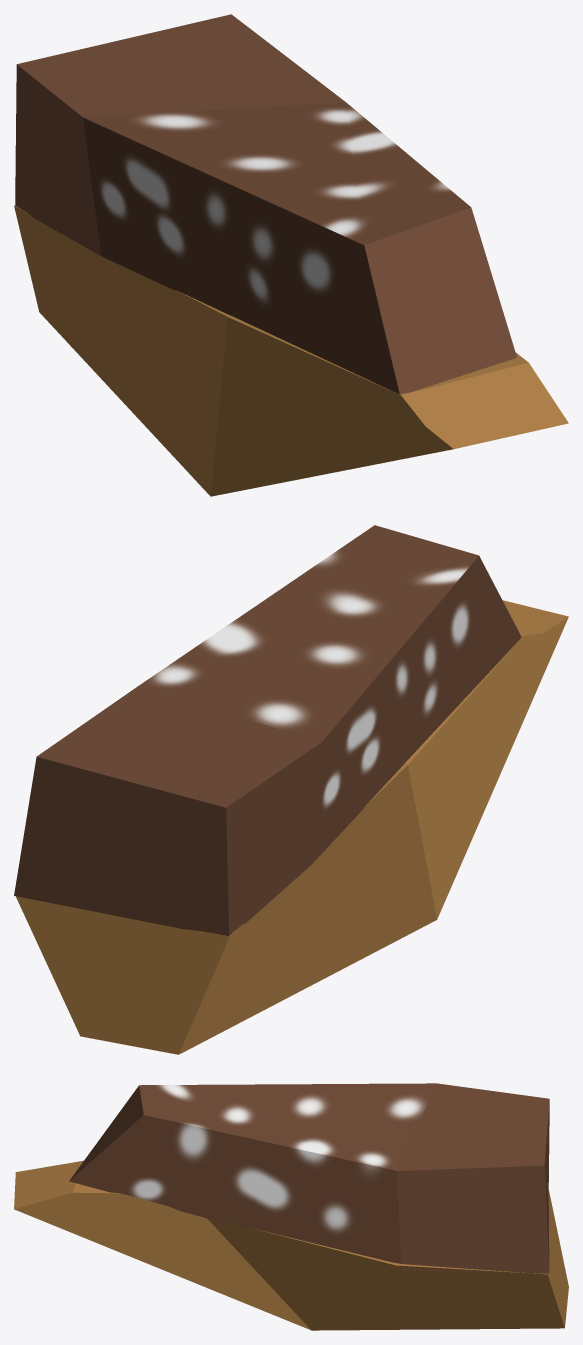
The model's file is deer_body.fbx.
The picture shows the model from 3 angles, top to bottom: view 1: azimuth 30°, elevation 25°; view 2: azimuth 150°, elevation 25°; view 3: azimuth 270°, elevation 25°; orthographic projection. The views are drawn at different scales.
Visible parts, largest first — view 1: Cube; view 2: Cube; view 3: Cube.
Part boxes in pixels (x1=…): Cube: x1=14, y1=14, x2=568, y2=496; Cube: x1=14, y1=525, x2=568, y2=1054; Cube: x1=14, y1=1083, x2=568, y2=1330.
Size of the model in its own units: 54.81 by 65.09 by 154.
